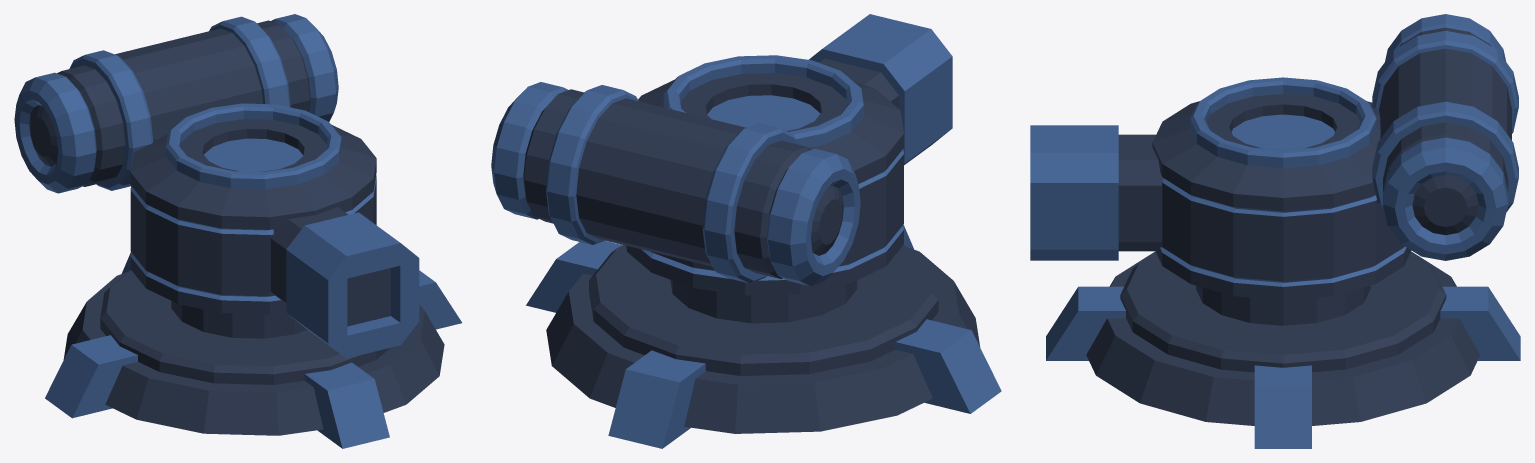
File: UpgCryosis1.fbx
3 views of the same model, side by side, from view 1: azimuth 30°, elevation 25°; view 2: azimuth 150°, elevation 25°; view 3: azimuth 270°, elevation 25° (orthographic). The views are drawn at different scales.
Parts seen in each view (by area): view 1: Cylinder.022, Cylinder.021; view 2: Cylinder.022, Cylinder.021; view 3: Cylinder.022, Cylinder.021.
Boxes of the visible parts, bbox=[...] form: Cylinder.022: bbox=[14, 14, 419, 358]; Cylinder.021: bbox=[45, 252, 461, 448]; Cylinder.022: bbox=[491, 14, 952, 295]; Cylinder.021: bbox=[526, 224, 1001, 448]; Cylinder.022: bbox=[1030, 14, 1518, 300]; Cylinder.021: bbox=[1046, 251, 1520, 448].
Size of the model in its own units: 93.74 by 60.5 by 96.82.
